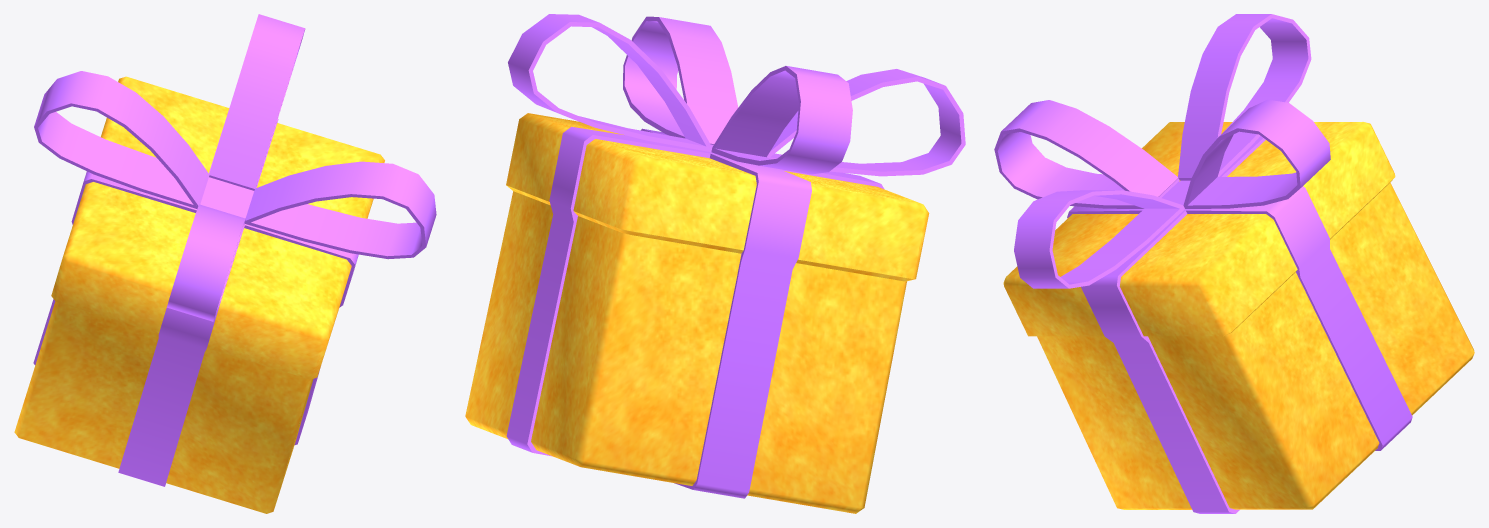
The model's file is loot2.glb.
The picture shows the model from 3 angles, left to right: view 1: azimuth 30°, elevation 25°; view 2: azimuth 150°, elevation 25°; view 3: azimuth 270°, elevation 25°; orthographic projection. The views are drawn at different scales.
Visible parts, largest first — view 1: LootbOX; view 2: LootbOX; view 3: LootbOX.
Part boxes in pixels (x1,y1,x2,y2): LootbOX: (14, 14, 436, 513); LootbOX: (465, 14, 965, 513); LootbOX: (994, 14, 1474, 513).
Size of what is drawn, in the model's own units: 0.5074 by 0.6179 by 0.6065.
Materials: 1 (1 with a texture image).
